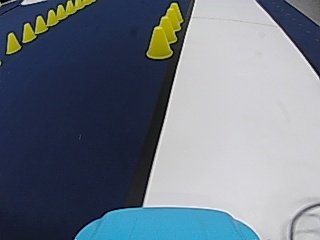cone: (144, 24, 173, 59), (156, 15, 176, 43), (165, 2, 183, 29), (5, 31, 21, 53), (21, 22, 35, 42), (34, 15, 47, 33), (46, 8, 57, 25), (55, 4, 65, 18), (65, 0, 73, 13)
